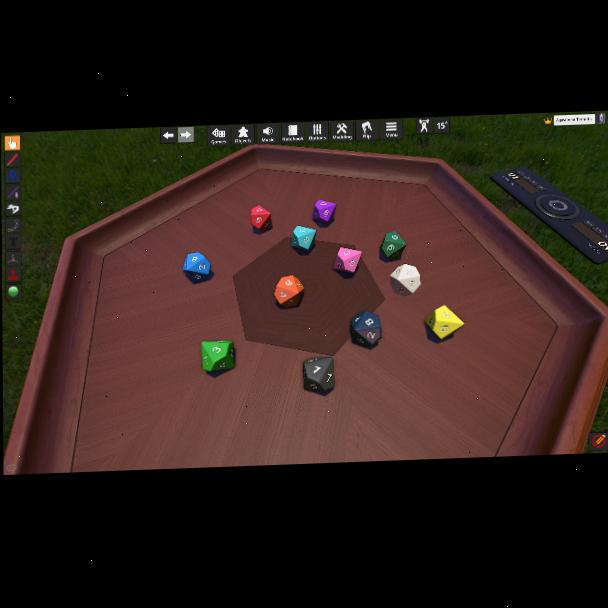d10: (425, 304, 462, 341), (201, 339, 234, 373), (302, 356, 333, 392), (275, 275, 306, 308), (354, 311, 383, 346), (390, 262, 418, 294), (181, 252, 211, 281), (333, 246, 361, 274), (381, 231, 405, 260), (291, 225, 314, 251), (313, 199, 336, 223), (251, 205, 270, 230)
